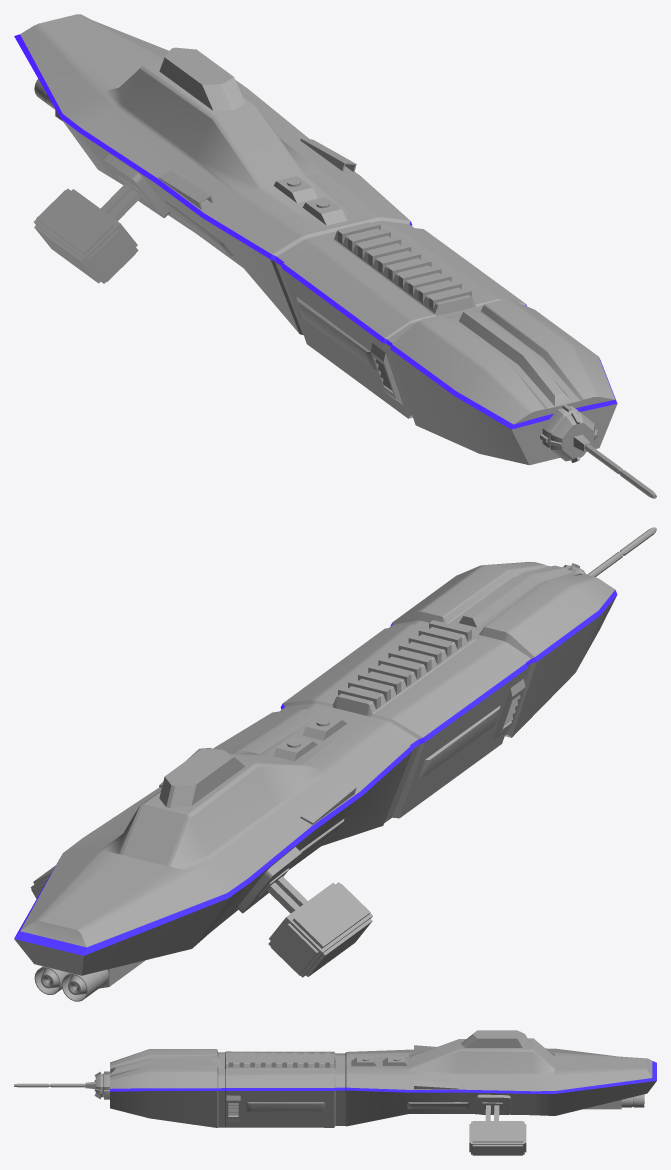
File: VR ship.fbx
The picture shows the model from 3 angles, top to bottom: view 1: azimuth 30°, elevation 25°; view 2: azimuth 150°, elevation 25°; view 3: azimuth 270°, elevation 25°; orthographic projection. The views are drawn at different scales.
Parts seen in each view (by area): view 1: polySurface1, polySurface6, polySurface27, polySurface33, polySurface24, polySurface20, polySurface4, polySurface8, polySurface22, polySurface35; view 2: polySurface1, polySurface6, polySurface27, polySurface33, polySurface20, polySurface4, polySurface34, polySurface22, polySurface8, polySurface2; view 3: polySurface1, polySurface7, polySurface27, polySurface21, polySurface33, polySurface5, polySurface32, polySurface24, polySurface46, polySurface26, polySurface15, polySurface9 (+3 smaller).
Part boxes in pixels (<box>): polySurface1: <box>14,14,617,465</box>; polySurface6: <box>34,188,138,283</box>; polySurface27: <box>159,47,244,110</box>; polySurface33: <box>459,309,572,406</box>; polySurface24: <box>540,404,597,462</box>; polySurface20: <box>296,297,376,369</box>; polySurface4: <box>103,154,169,217</box>; polySurface8: <box>100,176,149,220</box>; polySurface22: <box>158,170,213,209</box>; polySurface35: <box>302,197,347,225</box>; polySurface1: <box>14,562,617,975</box>; polySurface6: <box>268,882,372,977</box>; polySurface27: <box>159,749,244,807</box>; polySurface33: <box>459,565,572,627</box>; polySurface20: <box>419,706,500,778</box>; polySurface4: <box>237,847,301,913</box>; polySurface34: <box>61,969,108,1001</box>; polySurface22: <box>300,780,356,824</box>; polySurface8: <box>259,868,307,913</box>; polySurface2: <box>34,966,69,994</box>; polySurface1: <box>110,1038,656,1127</box>; polySurface7: <box>469,1121,526,1155</box>; polySurface27: <box>461,1030,530,1047</box>; polySurface21: <box>246,1102,325,1111</box>; polySurface33: <box>110,1058,212,1073</box>; polySurface5: <box>476,1094,511,1114</box>; polySurface32: <box>407,1102,468,1108</box>; polySurface24: <box>94,1071,109,1099</box>; polySurface46: <box>414,1080,458,1089</box>; polySurface26: <box>14,1083,85,1087</box>; polySurface15: <box>226,1095,240,1121</box>; polySurface9: <box>482,1102,502,1120</box>.
Size of the model in its own units: 166 by 91.42 by 600.
